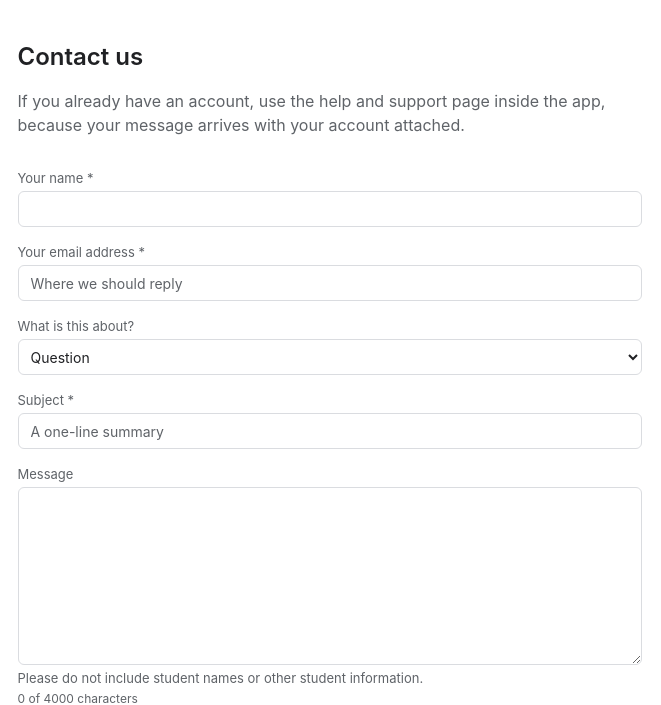
Scenario: ContactPage › sends what the visitor typed and confirms it landed
Step 1. Type "A Teacher" into the field labelled "Your name *" → {"x": 330, "y": 209}, box [18,191,642,227]
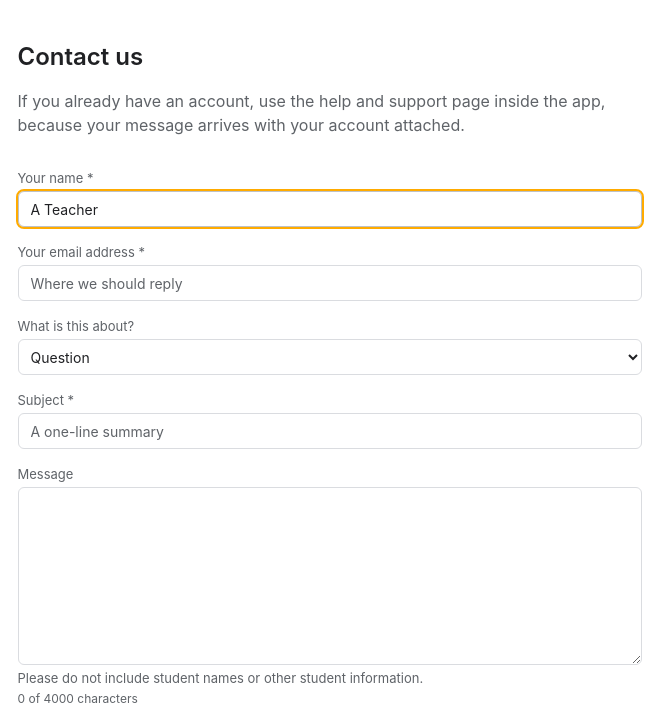
Step 2. Type "teacher@board.example" into the field labelled "Your email address *" → {"x": 330, "y": 283}, box [18,265,642,301]
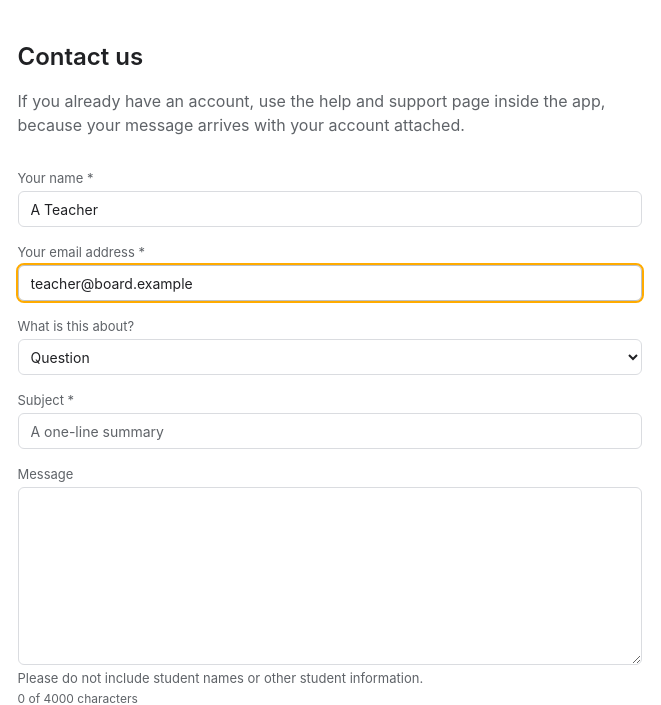
Step 3. Type "Board has blocked the app" into the field labelled "Subject *" → {"x": 330, "y": 431}, box [18,413,642,449]
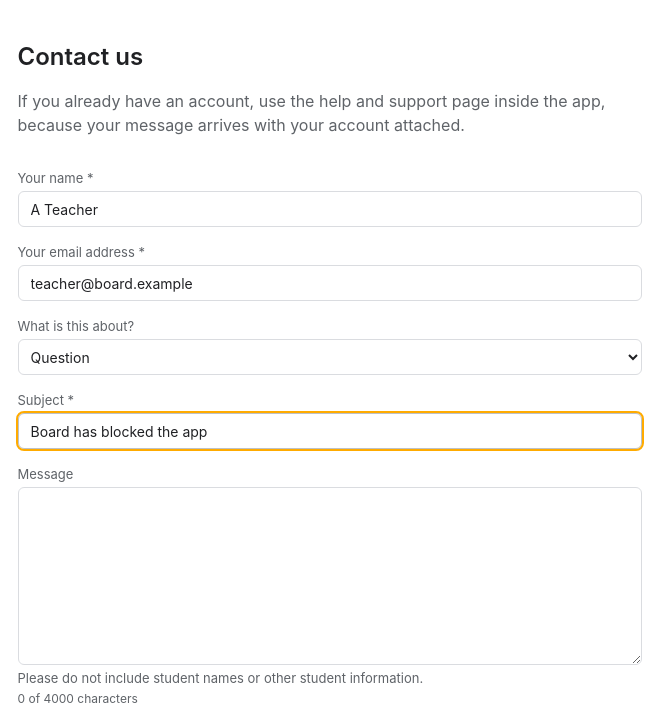
Step 4. Type "Who do I send the privacy summary to?" into the text box labelled "Message" → {"x": 330, "y": 576}, box [18,487,642,665]
(page scrolled)
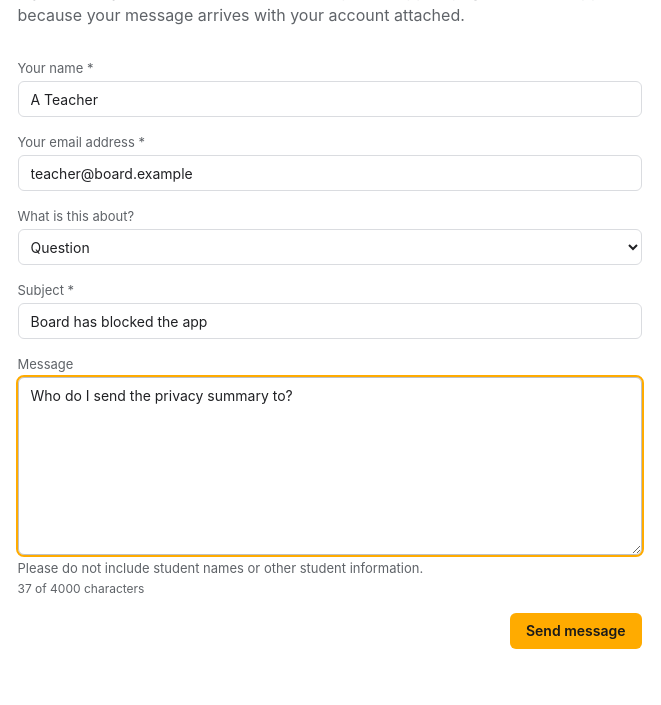
Step 5. Click the button "Send message" → {"x": 576, "y": 631}, box [510,613,642,649]
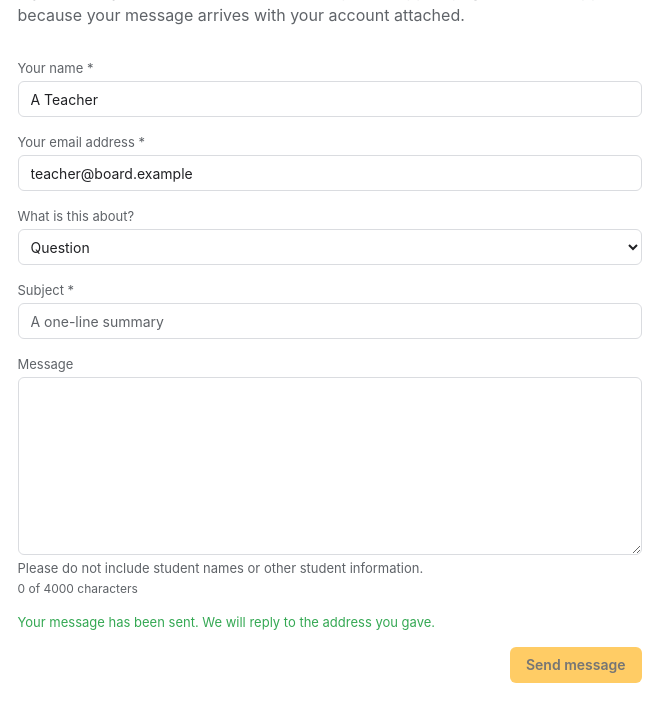
expect the message shows "has been sent": met, box [18,614,435,630]
